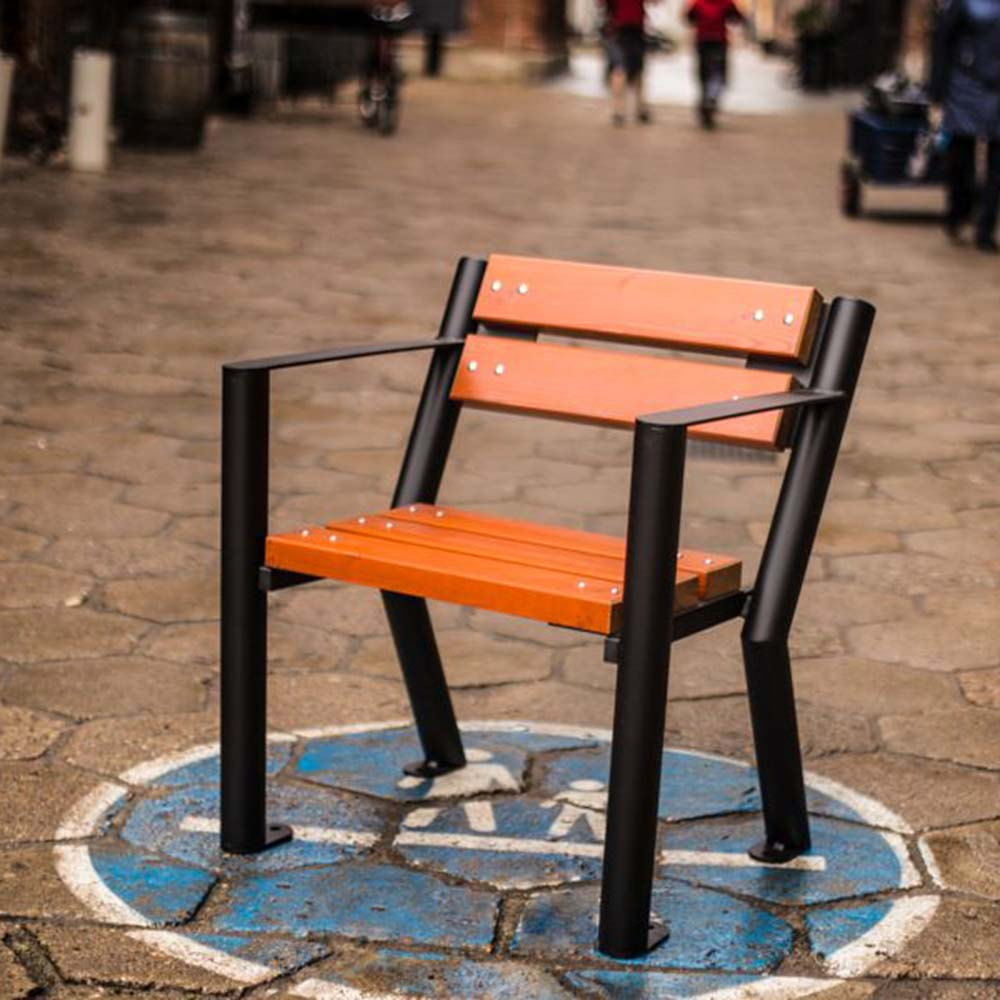Chair: (171, 233, 888, 963)
